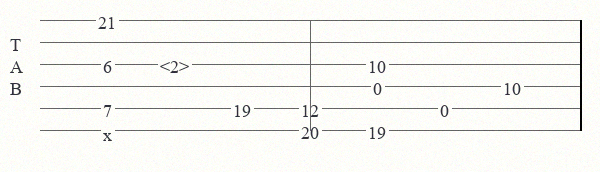0: (373, 78, 386, 94), (440, 100, 453, 116)
10: (368, 56, 390, 72), (503, 78, 525, 94)
12: (301, 100, 323, 116)
19: (233, 100, 255, 116), (368, 122, 390, 138)
20: (301, 122, 323, 138)
21: (98, 12, 120, 28)
6: (103, 56, 116, 72)
7: (103, 100, 116, 116)
harmonic: (160, 56, 193, 72)
x: (103, 124, 116, 136)
